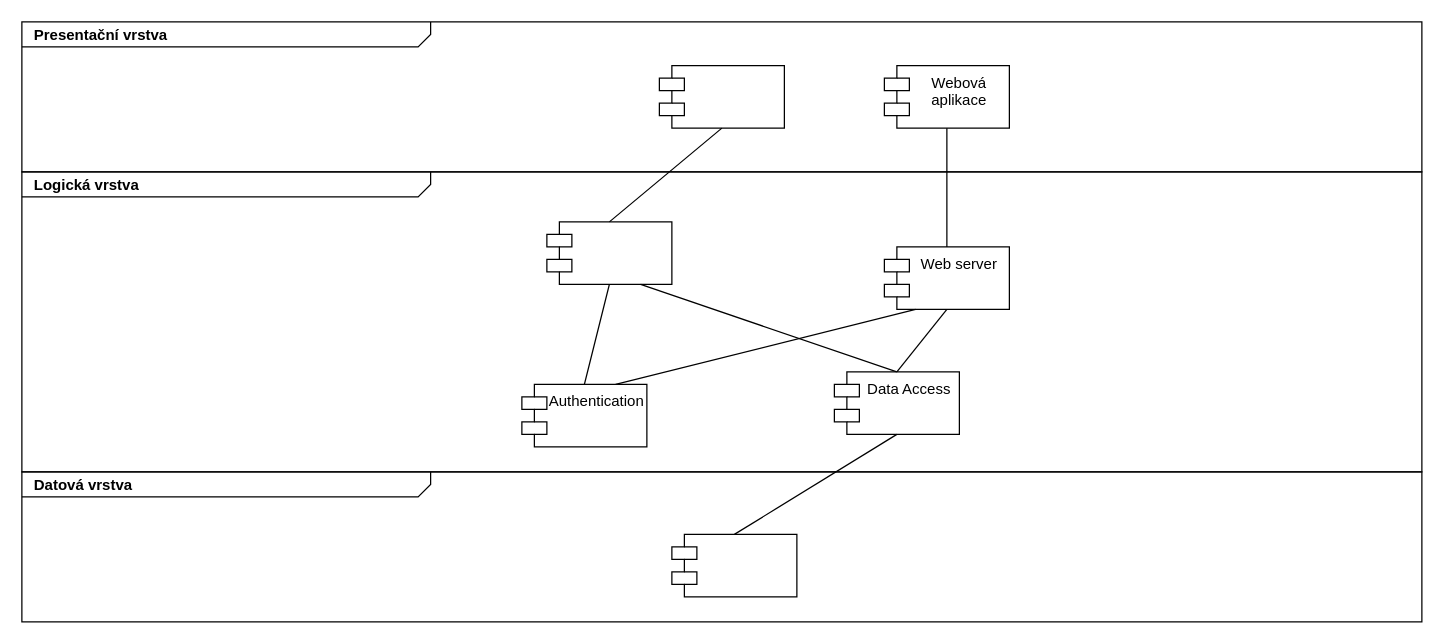
Some shapes in this 1444 by 644 pixel diagram are drawn without their labels. The centre of each missing label's shape, as x and y in pixels:
"Aplikace" goes at (x=609, y=252).
"Desktopová aplikace" goes at (x=721, y=96).
"SQL Databáze" goes at (x=734, y=565).
